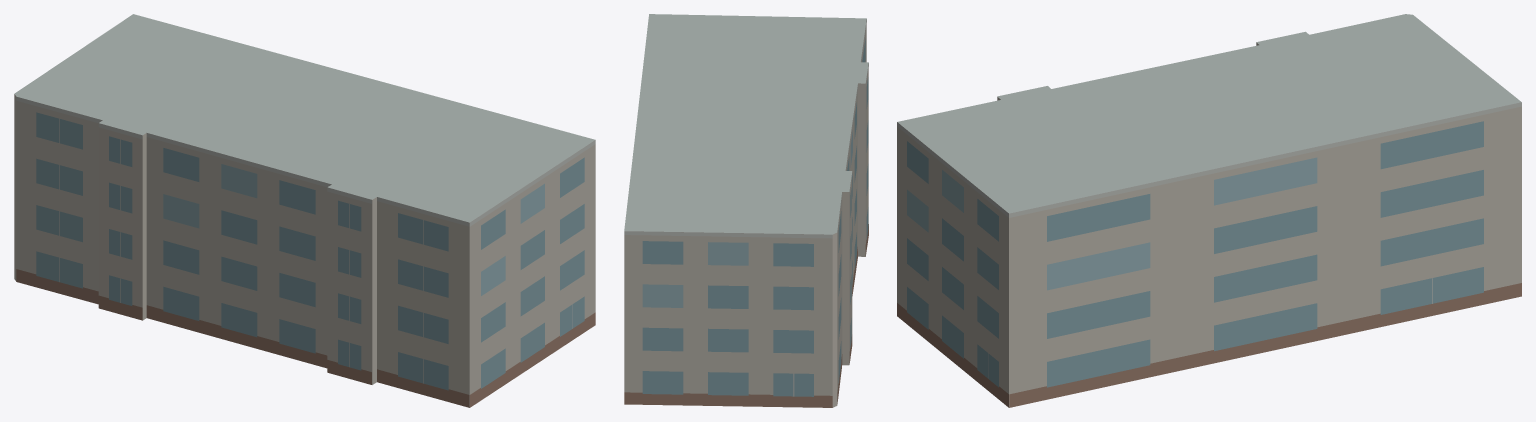
The model's file is survey-upis-32809474.glb.
3 views of the same model, side by side, from view 1: azimuth 30°, elevation 25°; view 2: azimuth 150°, elevation 25°; view 3: azimuth 270°, elevation 25° (orthographic). The views are drawn at different scales.
Visible parts, largest first — view 1: survey-upis-32809474.tmp; view 2: survey-upis-32809474.tmp; view 3: survey-upis-32809474.tmp.
Boxes of the visible parts, x1=… form: survey-upis-32809474.tmp: x1=14, y1=14, x2=595, y2=407; survey-upis-32809474.tmp: x1=624, y1=14, x2=868, y2=407; survey-upis-32809474.tmp: x1=897, y1=14, x2=1521, y2=407.
Bounding box in the file's own units: 23.92 × 10.85 × 31.63.
